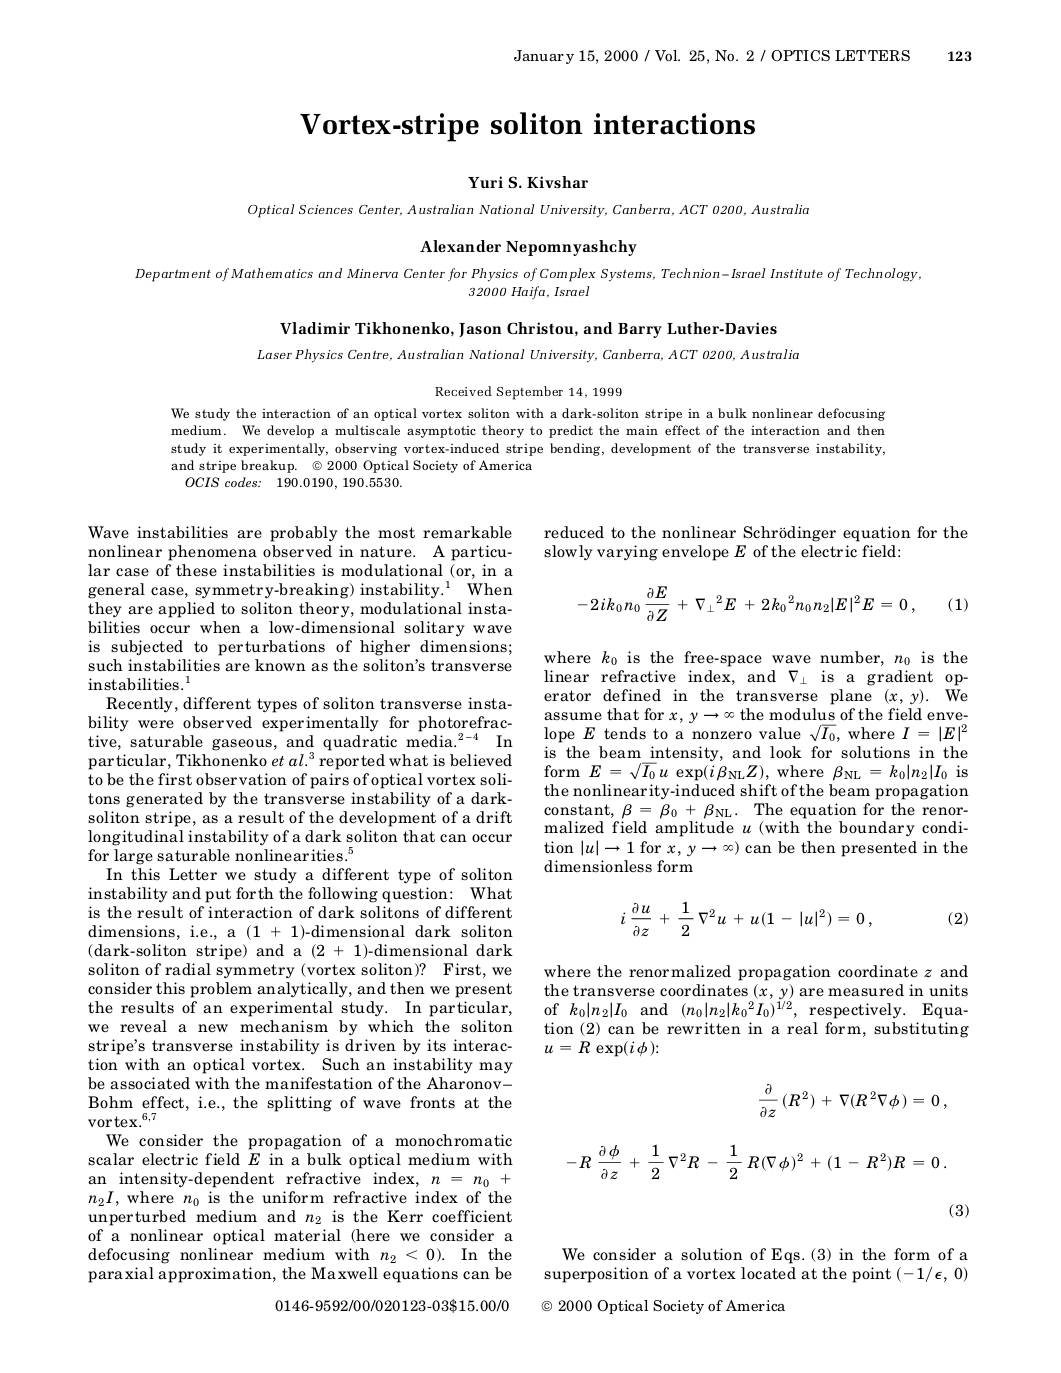formula: (578, 585, 967, 622), (567, 1143, 946, 1180), (621, 900, 967, 937), (759, 1083, 946, 1118)
